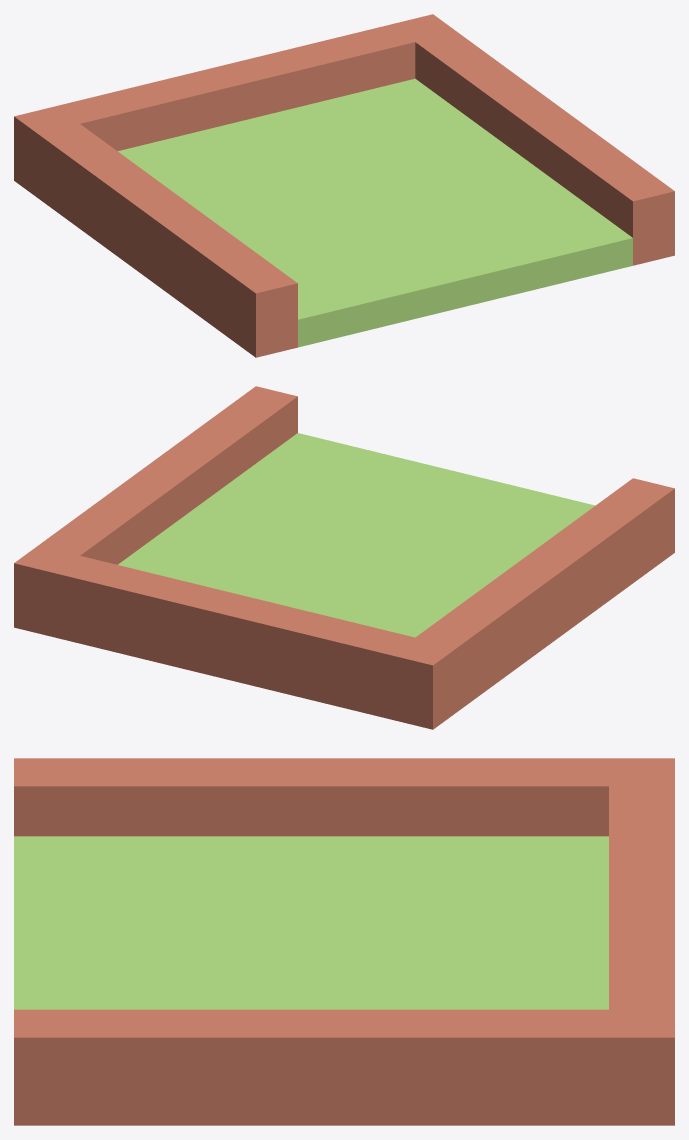
File: End_01.glb
The picture shows the model from 3 angles, top to bottom: view 1: azimuth 30°, elevation 25°; view 2: azimuth 150°, elevation 25°; view 3: azimuth 270°, elevation 25°; orthographic projection. The views are drawn at different scales.
Visible parts, largest first — view 1: Mesh1 End Model; view 2: Mesh1 End Model; view 3: Mesh1 End Model.
Boxes of the visible parts, left/top/right/bottom form: Mesh1 End Model: left=14, top=14, right=674, bottom=357; Mesh1 End Model: left=14, top=386, right=674, bottom=729; Mesh1 End Model: left=14, top=758, right=674, bottom=1125.
Size of the model in its own units: 3 by 0.44 by 3.
